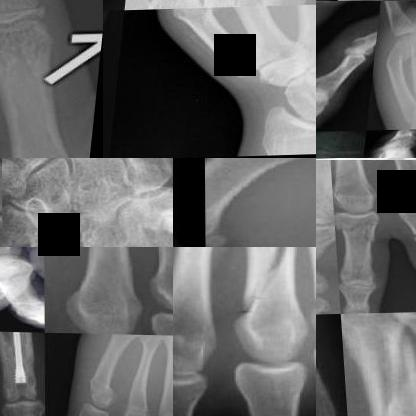fracture: (347, 331, 415, 415), (238, 247, 307, 314), (0, 331, 42, 393), (334, 209, 384, 250), (382, 41, 415, 77), (82, 367, 116, 399), (170, 9, 232, 25), (397, 219, 415, 255)
